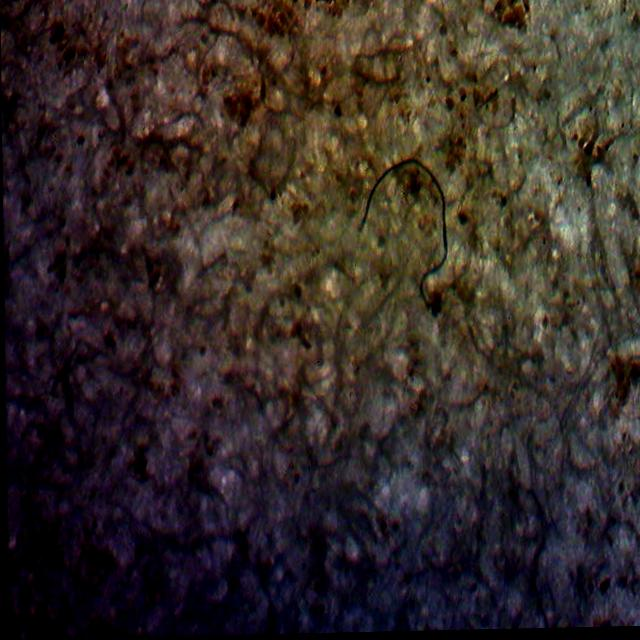microplastic: (342, 147, 495, 319)
